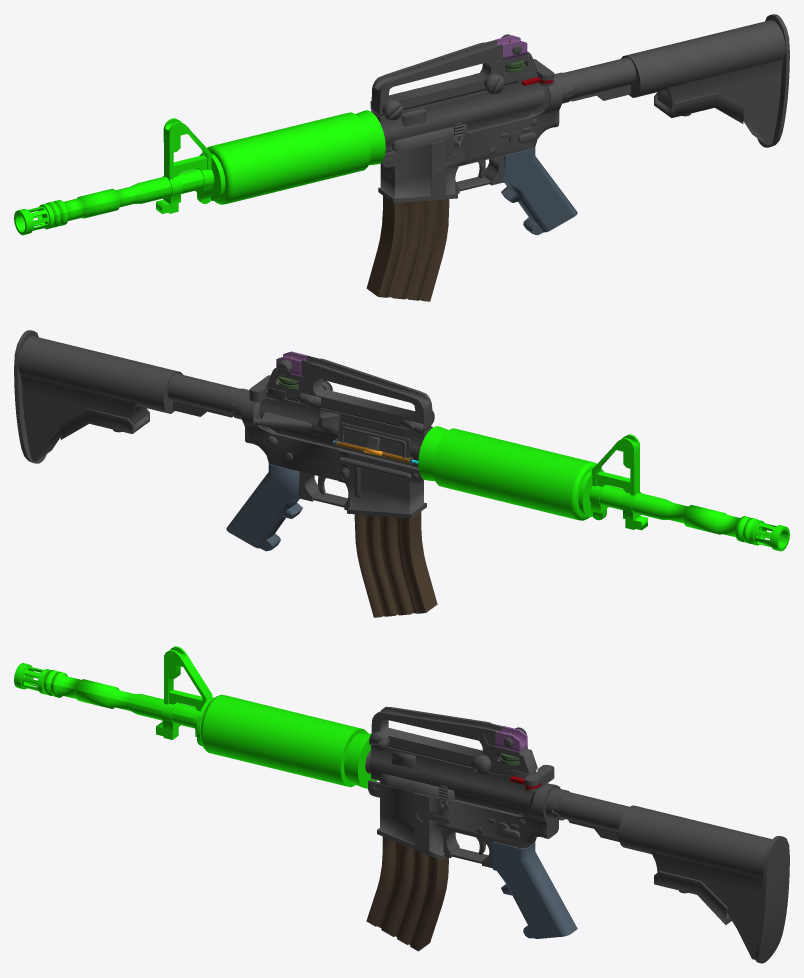
3 views of the same model, one above another, from view 1: azimuth 30°, elevation 25°; view 2: azimuth 150°, elevation 25°; view 3: azimuth 330°, elevation 25° (orthographic).
Parts seen in each view (by area): view 1: Cylinder.006 (×2); view 2: Cylinder.006 (×2); view 3: Cylinder.006 (×2).
Boxes of the visible parts, x1,y1,x2,y2 form: Cylinder.006 (×2): (14,14,789,301); Cylinder.006 (×2): (14,330,789,617); Cylinder.006 (×2): (14,646,789,963).
Size of the model in its own units: 1873 by 561 by 132.
